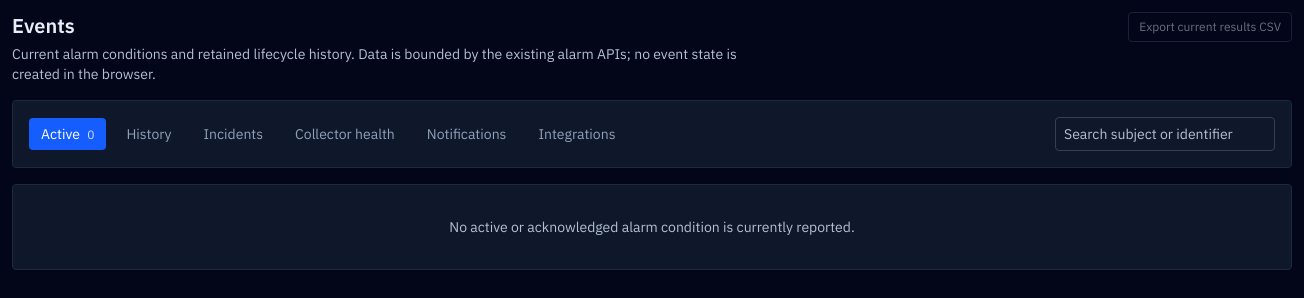
Scenario: events page integration › keeps the alarm view by default and adds the operations tabs next to it
The width and height of the screenshot is (1304, 298).
Click the tab "Incidents" at (233, 134), box top-left (192, 118), bottom-right (275, 150)
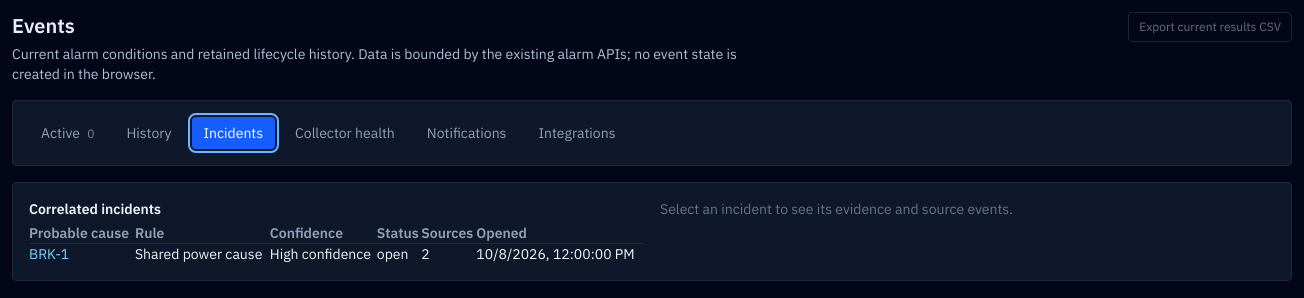
Expected: the button "BRK-1" is shown, top-left (29, 244), bottom-right (69, 264)
Expected: the text "No active or acknowledged alarm" is gone
